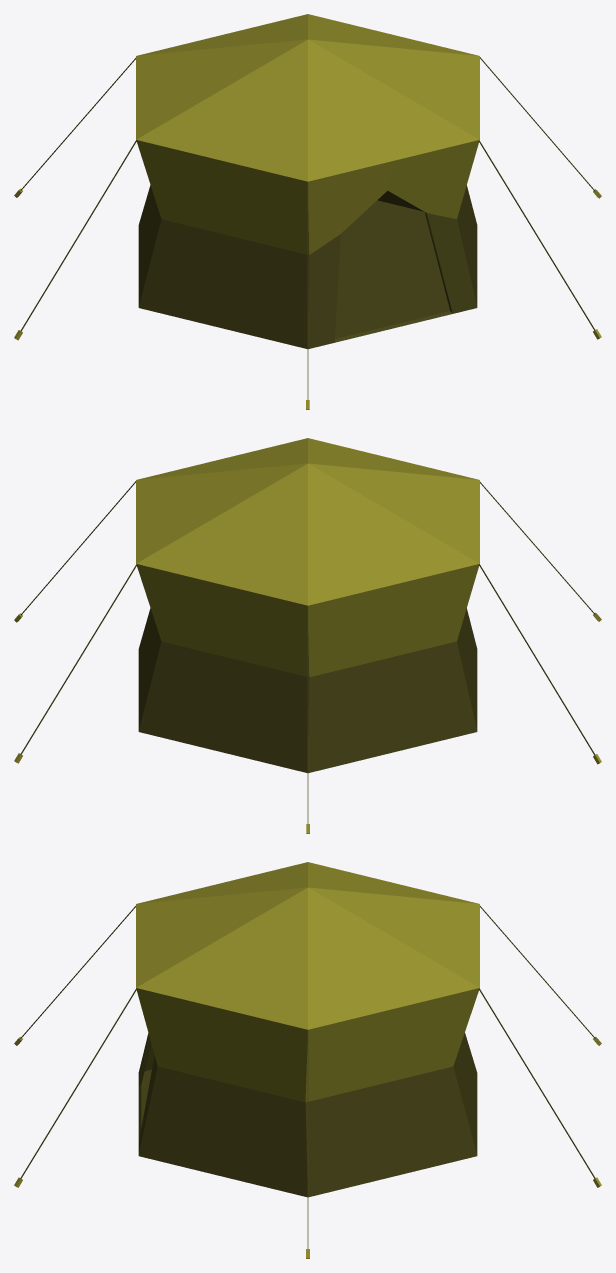
Rendered from Tent_6_Yellow.fbx.
3 renders of one model, top to bottom at view 1: azimuth 30°, elevation 25°; view 2: azimuth 150°, elevation 25°; view 3: azimuth 270°, elevation 25°, orthographic.
Parts seen in each view (by area): view 1: Tent_6_Yellow_Part_9, Tent_6_Yellow_Part_7, Tent_6_Yellow_Part_1, Tent_6_Yellow_Part_11, Tent_6_Yellow_Part_10, Tent_6_Yellow_Part_8, Tent_6_Yellow_Part_2, Tent_6_Yellow_Part_12, Tent_6_Yellow_Part_6, Tent_6_Yellow_Part_3; view 2: Tent_6_Yellow_Part_9, Tent_6_Yellow_Part_6, Tent_6_Yellow_Part_5, Tent_6_Yellow_Part_12, Tent_6_Yellow_Part_4, Tent_6_Yellow_Part_7; view 3: Tent_6_Yellow_Part_9, Tent_6_Yellow_Part_3, Tent_6_Yellow_Part_4, Tent_6_Yellow_Part_12, Tent_6_Yellow_Part_5.
Boxes of the visible parts, box(x1,y1,x2,y2) form: Tent_6_Yellow_Part_9: box(136, 14, 479, 181); Tent_6_Yellow_Part_7: box(136, 140, 309, 348); Tent_6_Yellow_Part_1: box(334, 200, 452, 342); Tent_6_Yellow_Part_11: box(387, 140, 479, 218); Tent_6_Yellow_Part_10: box(308, 161, 393, 254); Tent_6_Yellow_Part_8: box(308, 234, 340, 348); Tent_6_Yellow_Part_2: box(424, 212, 477, 313); Tent_6_Yellow_Part_12: box(14, 57, 601, 409); Tent_6_Yellow_Part_6: box(138, 185, 161, 306); Tent_6_Yellow_Part_3: box(457, 185, 477, 306); Tent_6_Yellow_Part_9: box(136, 438, 479, 605); Tent_6_Yellow_Part_6: box(308, 564, 479, 772); Tent_6_Yellow_Part_5: box(136, 564, 309, 772); Tent_6_Yellow_Part_12: box(14, 481, 601, 833); Tent_6_Yellow_Part_4: box(138, 608, 161, 730); Tent_6_Yellow_Part_7: box(457, 608, 477, 730); Tent_6_Yellow_Part_9: box(136, 862, 479, 1029); Tent_6_Yellow_Part_3: box(136, 988, 307, 1197); Tent_6_Yellow_Part_4: box(305, 988, 479, 1197); Tent_6_Yellow_Part_12: box(14, 906, 601, 1258); Tent_6_Yellow_Part_5: box(453, 1033, 477, 1154).
Bounding box in the file's own units: 1636 × 612 × 1420.
